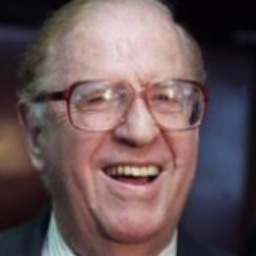Person: (10, 1, 241, 256)
